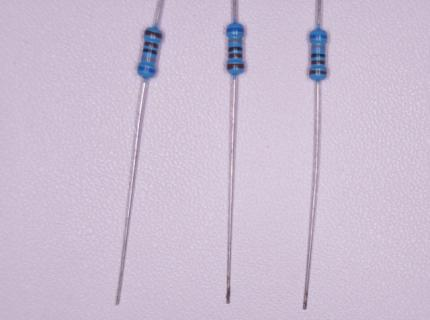Black band: (143, 48, 158, 55), (228, 46, 243, 52), (311, 53, 326, 58)
Blue band: (138, 66, 156, 74), (309, 34, 328, 39), (226, 28, 244, 33)
Brown band: (144, 29, 163, 39), (143, 41, 160, 48), (226, 64, 245, 69), (309, 70, 327, 75), (311, 60, 326, 65), (228, 53, 243, 58)
Grey band: (141, 55, 156, 63), (311, 45, 325, 50), (228, 39, 243, 43)
